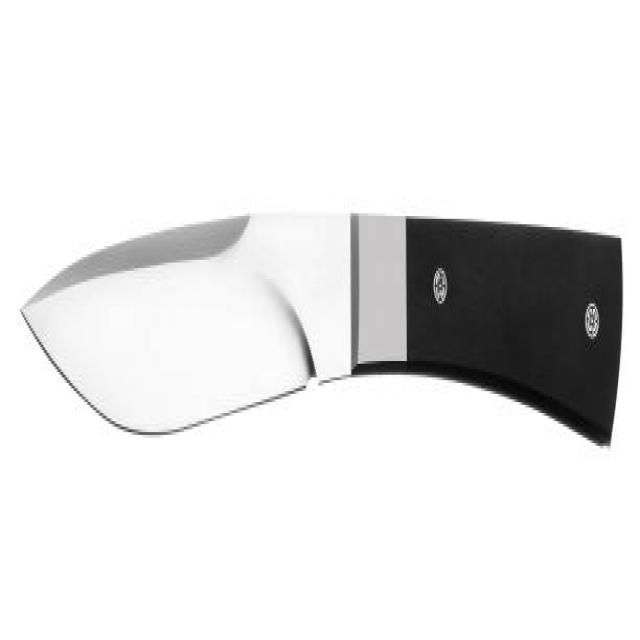knife: (6, 190, 634, 480)
